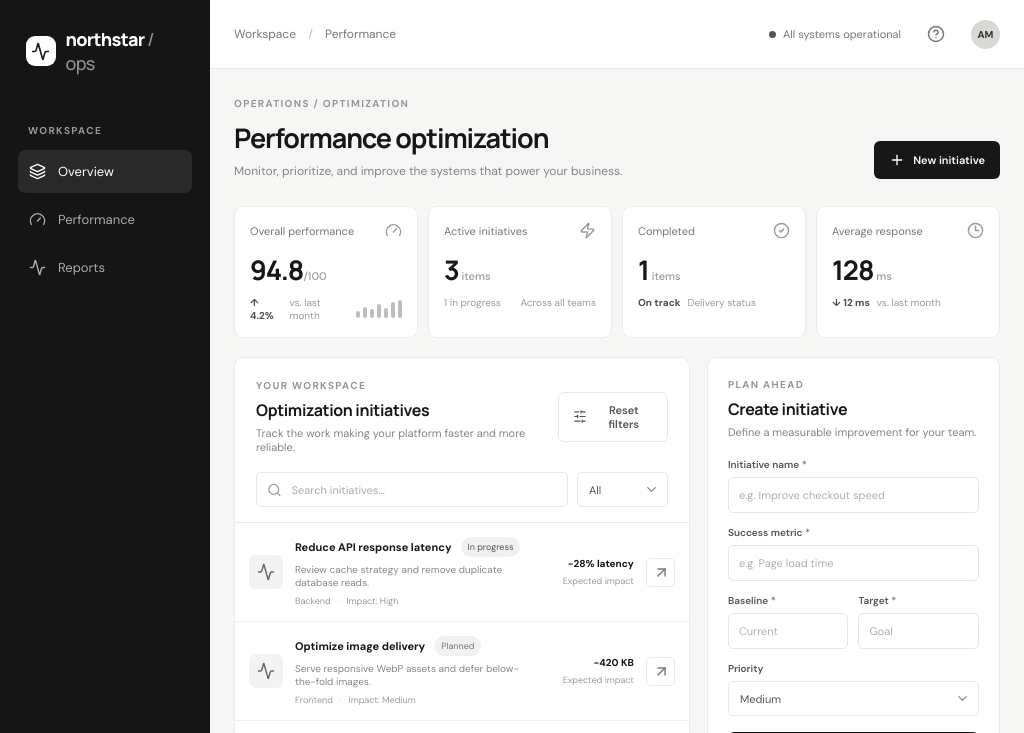
Test case: Performance Optimization portal acceptance criteria › sanitizes text entered by the user before rendering it
The image size is (1024, 733).
Type "<img src=x onerror=alert(1)>Safe title" into the field labelled "Initiative name *".
click(853, 495); type("<img src=x onerror=alert(1)>Safe title")  # box [728, 477, 979, 513]
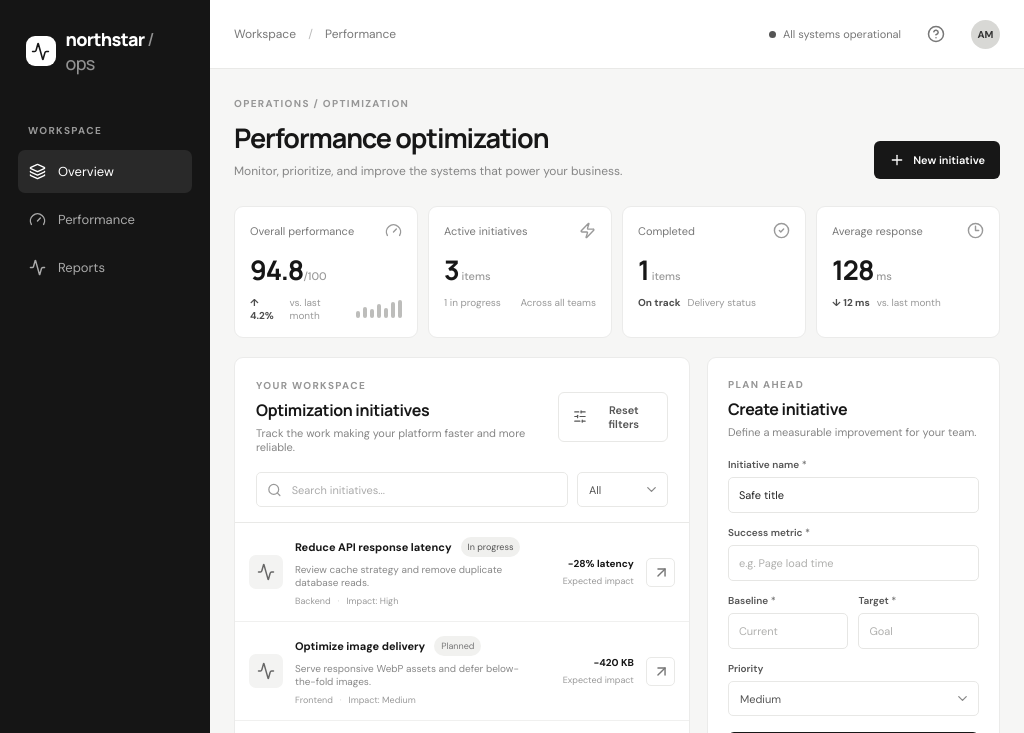
Check: the field labelled "Initiative name *" holds "Safe title", box [728, 477, 979, 513]
